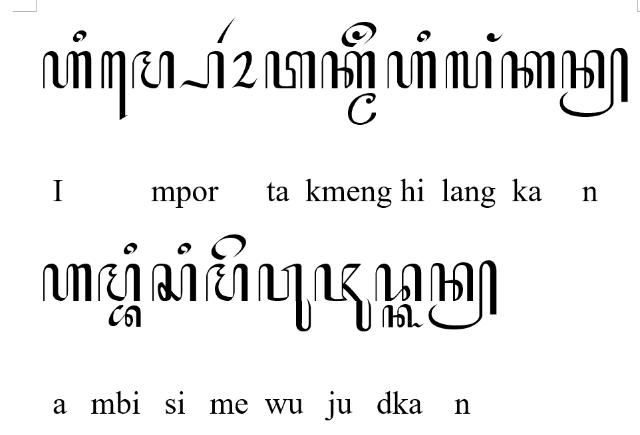-n: (558, 46, 628, 118), (428, 260, 498, 330)
_b: (108, 306, 142, 328)
_k: (382, 304, 424, 329)
_m: (348, 92, 377, 126)
_p: (178, 50, 225, 90)
_r1: (217, 18, 236, 44)
d: (375, 264, 423, 302)
e: (212, 234, 246, 260)
e1: (100, 50, 128, 120)
eng: (341, 22, 377, 48)
h: (387, 50, 438, 90), (42, 262, 92, 302), (42, 50, 92, 89)
i: (176, 242, 192, 256), (123, 243, 139, 256), (416, 30, 432, 42), (73, 30, 87, 42)
ju: (314, 263, 372, 333)
k: (320, 50, 376, 90), (500, 50, 556, 90)
l: (445, 50, 493, 90)
m: (97, 264, 141, 302), (205, 264, 249, 302), (132, 51, 174, 89)
ng: (486, 32, 504, 42)
o: (230, 50, 258, 90)
s: (152, 264, 196, 302)
t: (264, 50, 316, 90)
wu: (258, 263, 312, 333)
